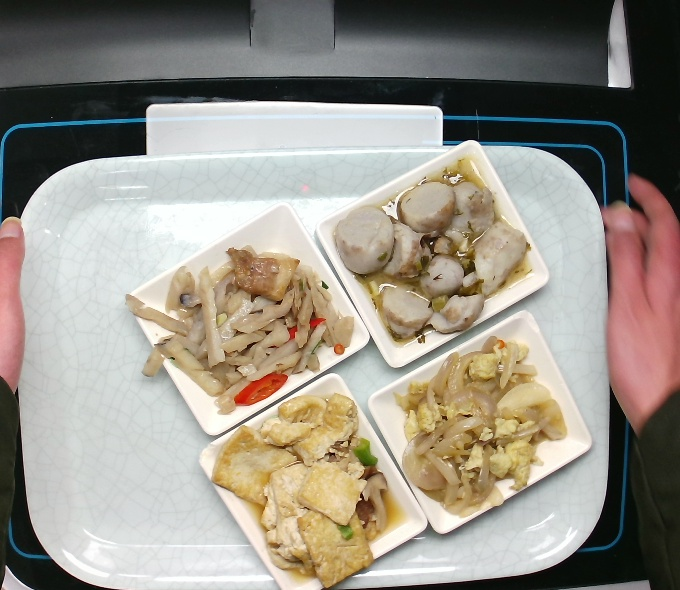wcq-JiaChangDouFu: (216, 392, 385, 588)
wcq-QingChaoOuPian: (127, 245, 349, 415)
wcq-YangCongChaoDan: (389, 335, 575, 519)
wcq-YangYu: (334, 166, 535, 342)
